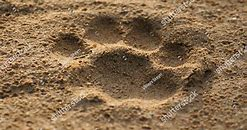lion: (53, 12, 211, 103)
